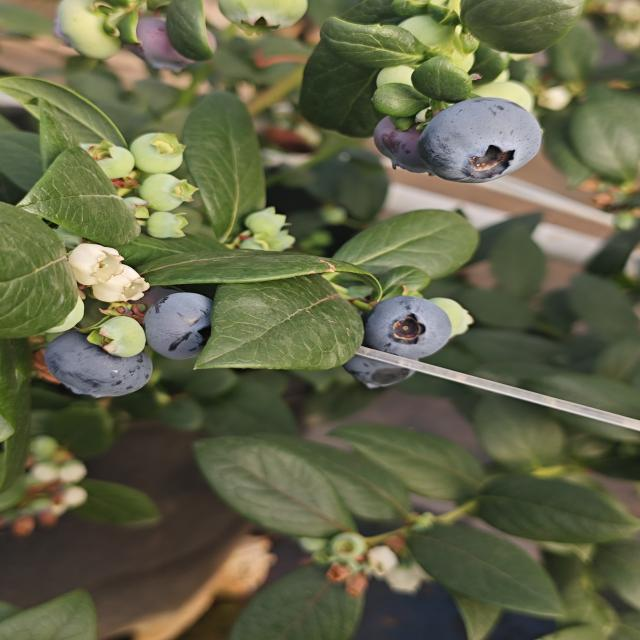ripe: (414, 95, 545, 186), (42, 327, 155, 401), (362, 292, 458, 362), (141, 290, 216, 362), (363, 109, 436, 176), (336, 338, 423, 389)
